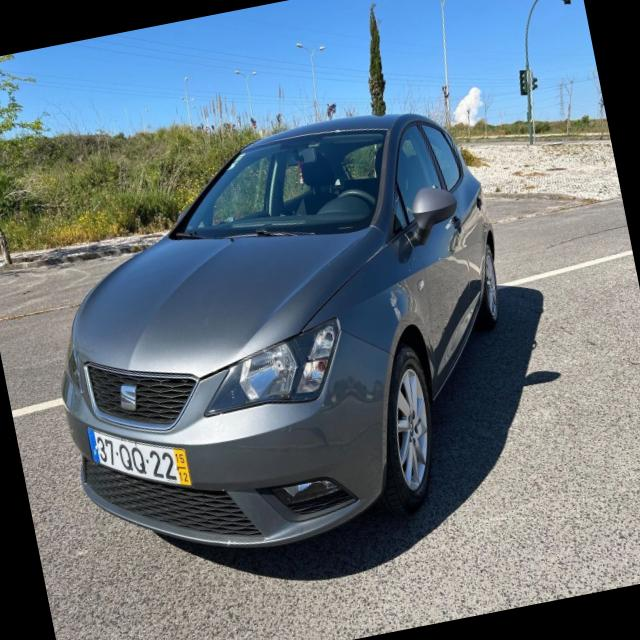portuguese-license-plates: (86, 425, 196, 491)
